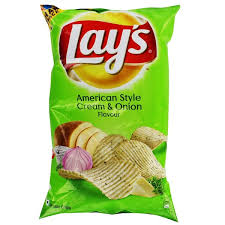lays-med: (44, 4, 175, 219)
